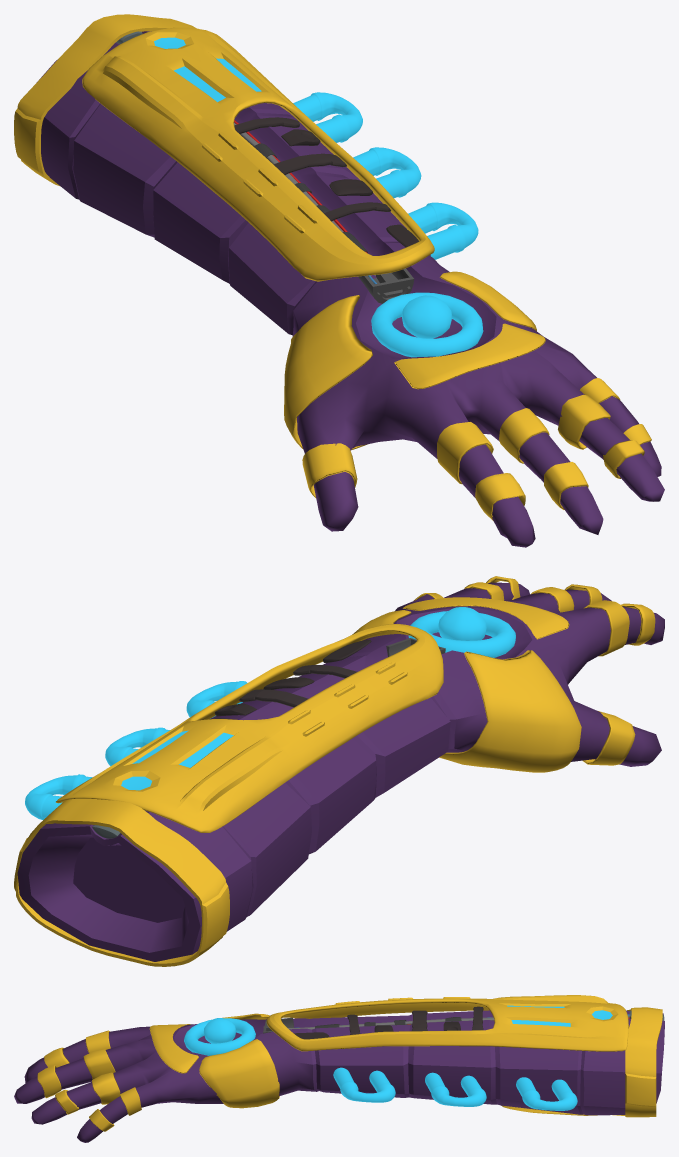
Rendered from sci_fi_glove.gltf.
3 renders of one model, top to bottom at view 1: azimuth 30°, elevation 25°; view 2: azimuth 150°, elevation 25°; view 3: azimuth 270°, elevation 25°, orthographic. The views are drawn at different scales.
Parts seen in each view (by area): view 1: pasted__polySurface34, pasted__polySurface38, polySurface30, polySurface9, pTorus2, polySurface31, pasted__pCylinder14, pasted__pCylinder12, pasted__pCylinder13, pSphere1, polySurface26, polySurface25 (+7 smaller); view 2: pasted__polySurface34, pasted__polySurface38, polySurface30, polySurface9, polySurface31, pTorus2, pasted__pCylinder12, polySurface25, pSphere1, polySurface26, pasted__pCylinder13, pasted__pCylinder14 (+2 smaller); view 3: pasted__polySurface34, pasted__polySurface38, polySurface30, polySurface9, pTorus2, polySurface31, pasted__pCylinder14, pasted__pCylinder13, pasted__pCylinder12, pSphere1, polySurface28, polySurface27 (+9 smaller).
Boxes of the visible parts, x1,y1,x2,y2 form: pasted__polySurface34: (36,31,664,547); pasted__polySurface38: (82,27,434,281); polySurface30: (284,271,536,450); polySurface9: (14,14,195,185); pTorus2: (371,292,483,357); polySurface31: (394,323,545,389); pasted__pCylinder14: (408,202,478,259); pasted__pCylinder12: (293,92,362,142); pasted__pCylinder13: (353,147,421,198); pSphere1: (401,295,452,338); polySurface26: (437,422,493,484); polySurface25: (302,443,357,498); pasted__polySurface34: (17,582,664,961); pasted__polySurface38: (56,624,443,832); polySurface30: (352,610,581,772); polySurface9: (14,798,229,966); polySurface31: (403,597,569,639); pTorus2: (408,611,515,657); pasted__pCylinder12: (25,774,92,819); polySurface25: (583,711,635,765); pSphere1: (438,607,486,640); polySurface26: (583,600,629,656); pasted__pCylinder13: (105,727,169,766); pasted__pCylinder14: (186,681,247,718); pasted__polySurface34: (14,1010,664,1142); pasted__polySurface38: (266,995,628,1051); polySurface30: (199,1013,279,1108); polySurface9: (501,1007,662,1117); pTorus2: (184,1018,255,1055); polySurface31: (149,1024,198,1073); pasted__pCylinder14: (333,1067,395,1102); pasted__pCylinder13: (425,1072,486,1106); pasted__pCylinder12: (516,1077,577,1110); pSphere1: (203,1018,235,1043); polySurface28: (92,1072,120,1104); polySurface27: (83,1049,115,1079).
Size of the model in its own units: 5.51 by 3.03 by 14.21.
Materials: 15 (1 with a texture image).
